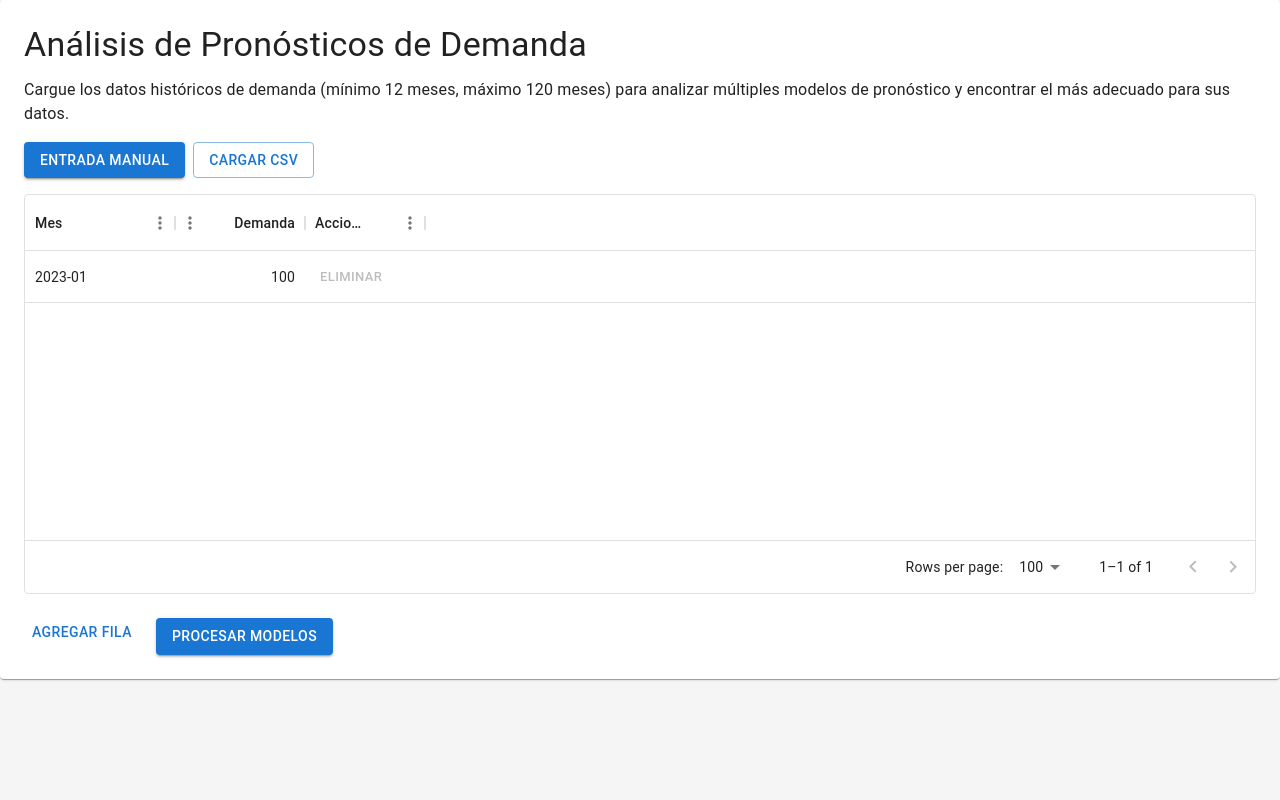
it: DataInput Component › Manual Data Entry Mode › adds new row when "Agregar Fila" button is clicked
This screenshot has width=1280, height=800.
Click the button "Agregar Fila" at x=82, y=633, box [24,614,140,651]
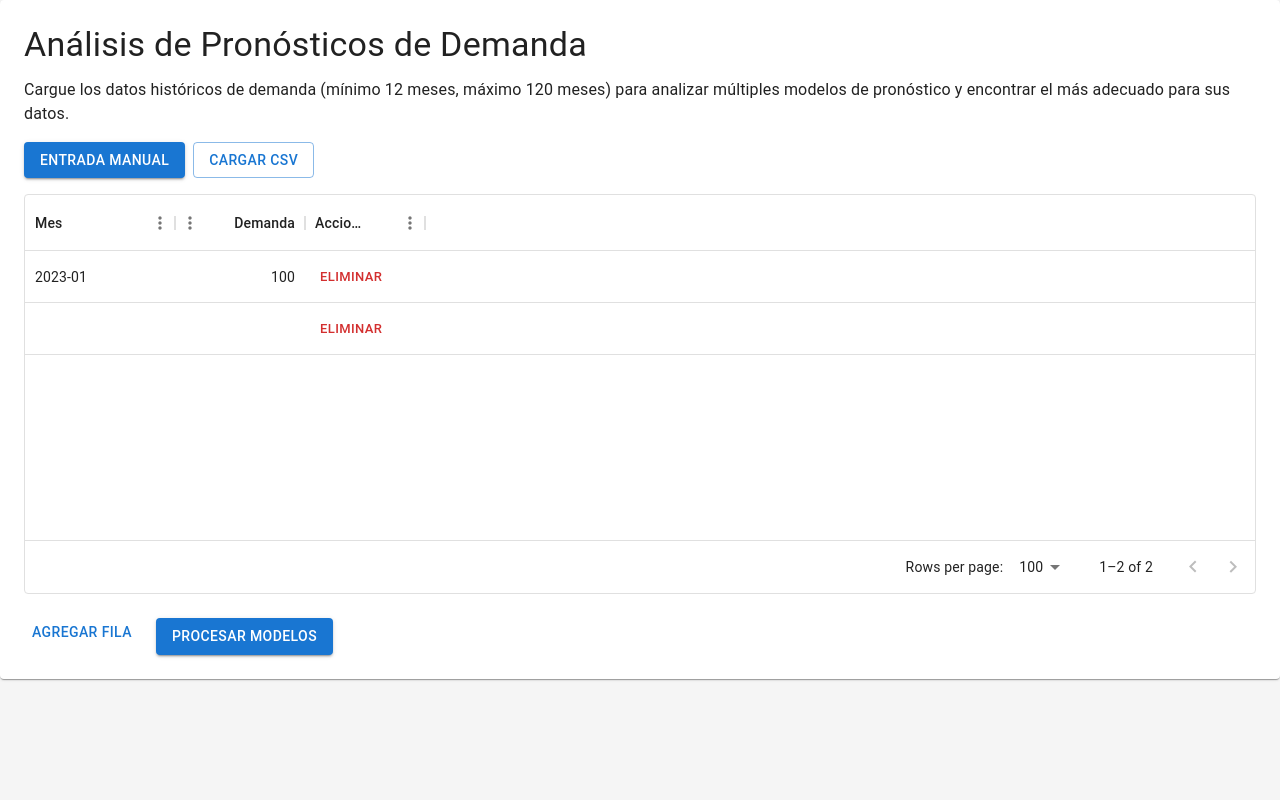
Check: the number of buttons "Eliminar" is 2, box [315,262,387,292]; [315,314,387,344]
